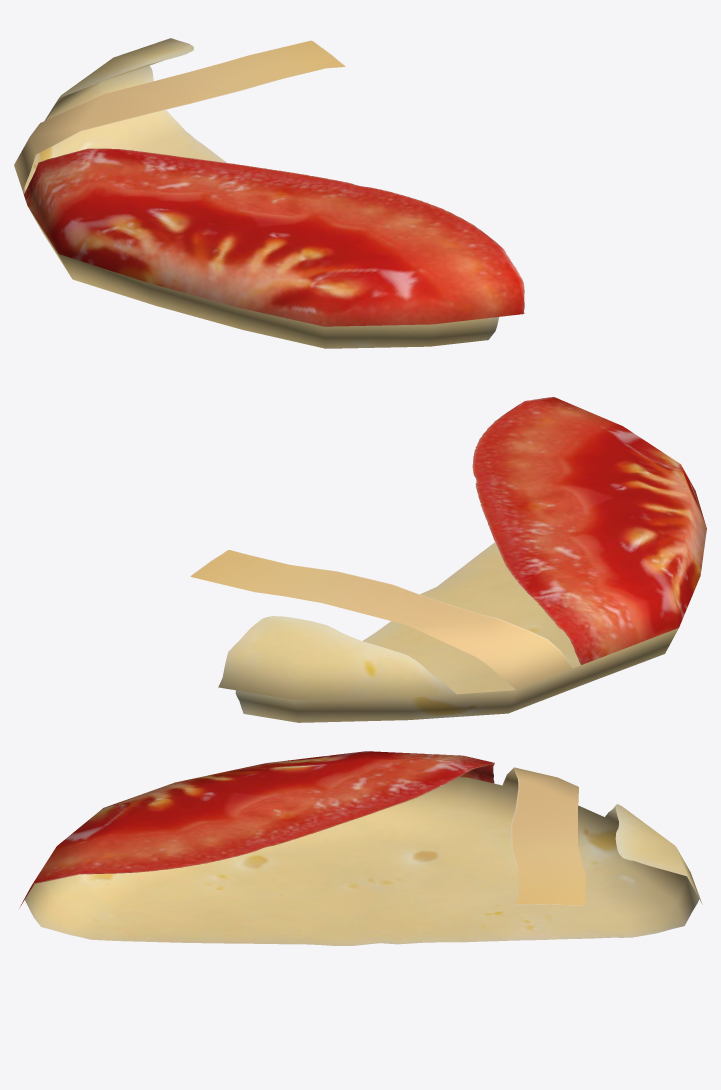
Rendered from chopped_steak.FBX.
The picture shows the model from 3 angles, top to bottom: view 1: azimuth 30°, elevation 25°; view 2: azimuth 150°, elevation 25°; view 3: azimuth 270°, elevation 25°; orthographic projection. The views are drawn at different scales.
Parts seen in each view (by area): view 1: chopped_steak__LOD00; view 2: chopped_steak__LOD00; view 3: chopped_steak__LOD00.
Part boxes in pixels (left/top/right/bottom): chopped_steak__LOD00: left=14, top=38, right=524, bottom=348; chopped_steak__LOD00: left=190, top=397, right=706, bottom=722; chopped_steak__LOD00: left=19, top=751, right=702, bottom=945.
Size of what is drawn, in the model's own units: 5.29 by 0.8129 by 5.5.
